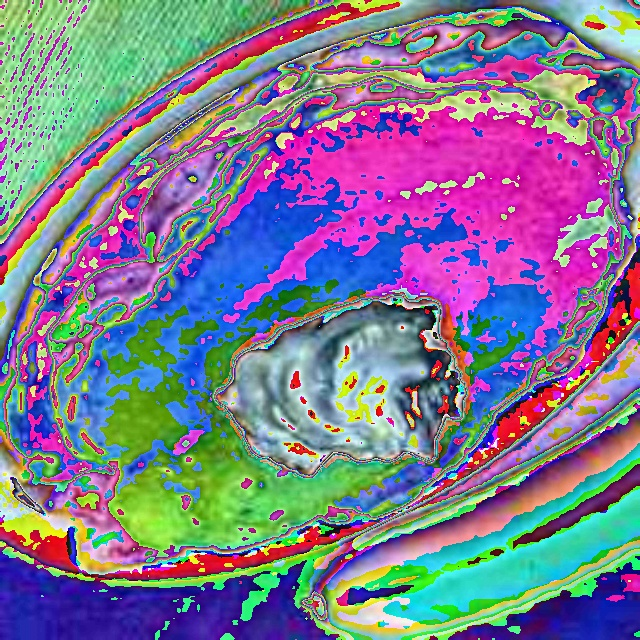background: (0, 8, 640, 574), (300, 242, 639, 639)
